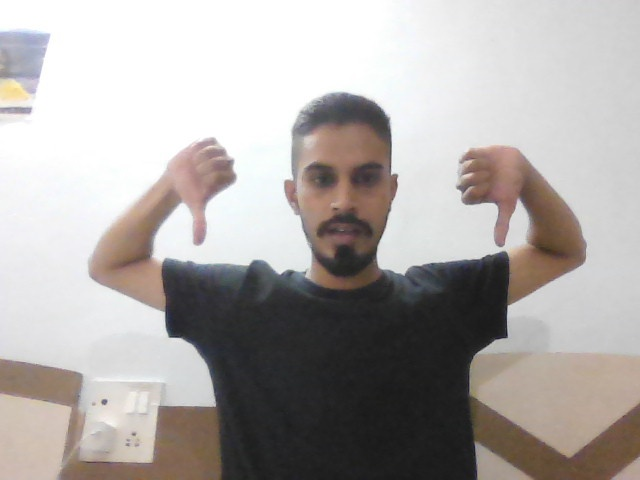ThumbsDown: (170, 130, 247, 255)
